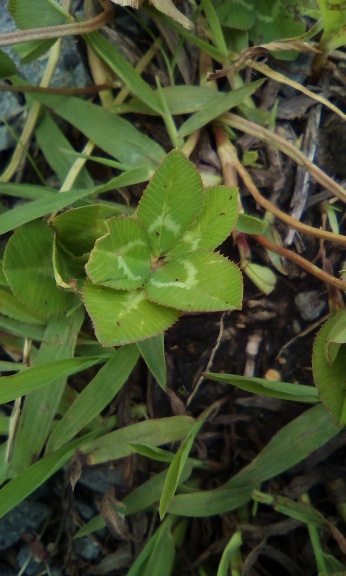4leaf: (80, 148, 245, 348)
